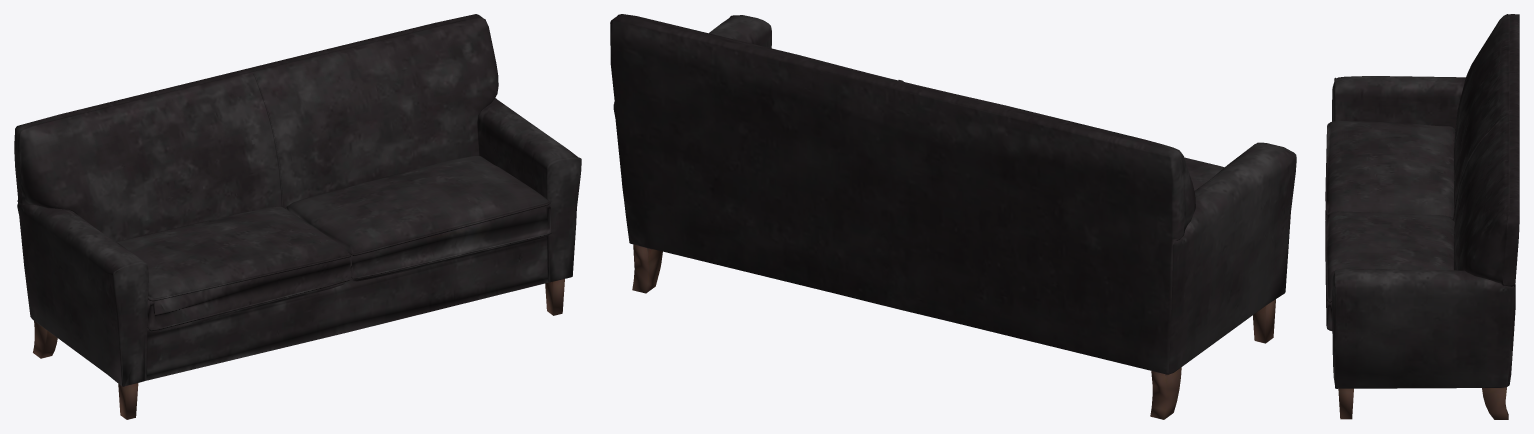
Rendered from abo-B075X4VM8W.glb.
3 renders of one model, left to right at view 1: azimuth 30°, elevation 25°; view 2: azimuth 150°, elevation 25°; view 3: azimuth 270°, elevation 25°, orthographic. The views are drawn at different scales.
Visible parts, largest first — view 1: RootNode; view 2: RootNode; view 3: RootNode.
Part boxes in pixels (x1,y1,x2,y2): RootNode: (14, 14, 581, 419); RootNode: (610, 14, 1296, 419); RootNode: (1325, 14, 1519, 419).
Bounding box in the file's own units: 2.05 × 0.9467 × 0.8025.
1 material, 1 textured.
